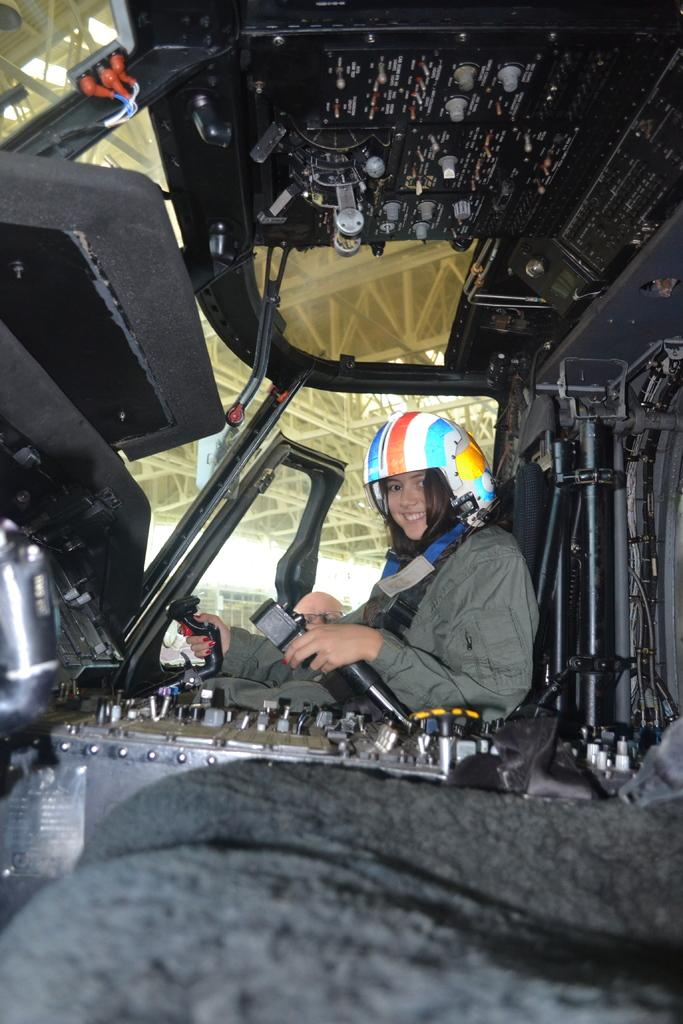helmet: (361, 411, 495, 540)
